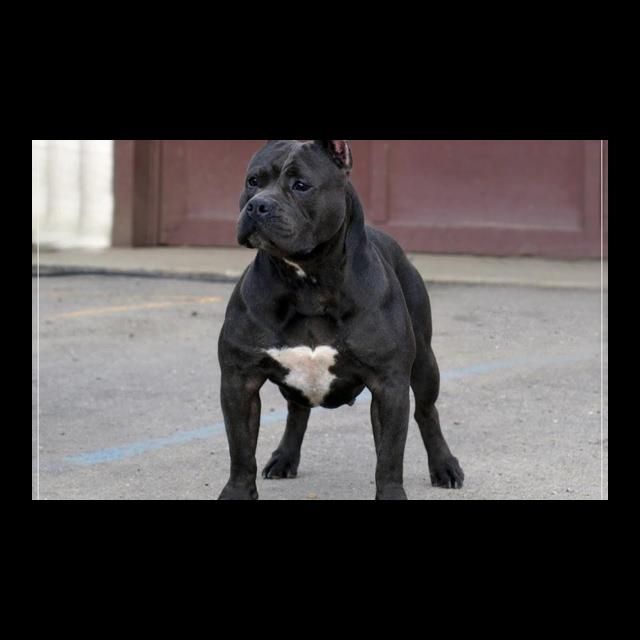am_pit_bull_terrier: (216, 142, 466, 501)
